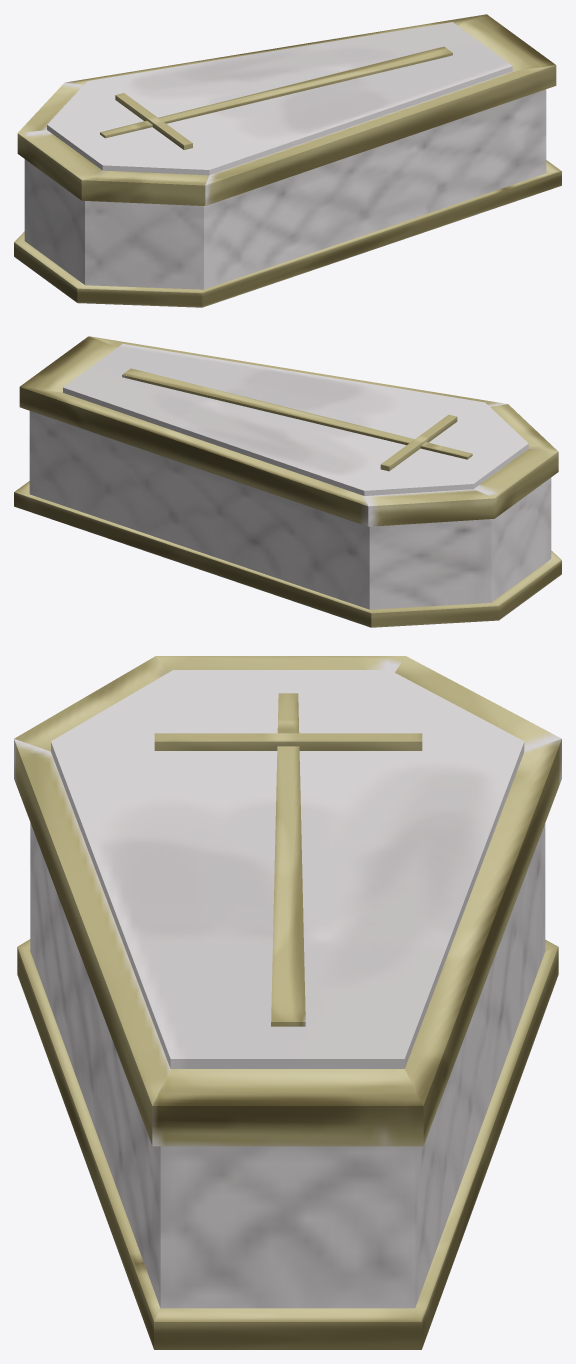
The model's file is caixao.fbx.
3 views of the same model, one above another, from view 1: azimuth 30°, elevation 25°; view 2: azimuth 150°, elevation 25°; view 3: azimuth 270°, elevation 25° (orthographic). The views are drawn at different scales.
Parts seen in each view (by area): view 1: caixao; view 2: caixao; view 3: caixao.
Part boxes in pixels (x1,y1,x2,y2): caixao: (14, 14, 561, 307); caixao: (14, 336, 561, 627); caixao: (14, 656, 561, 1349).
Bounding box in the file's own units: 1409 × 369 × 710.
